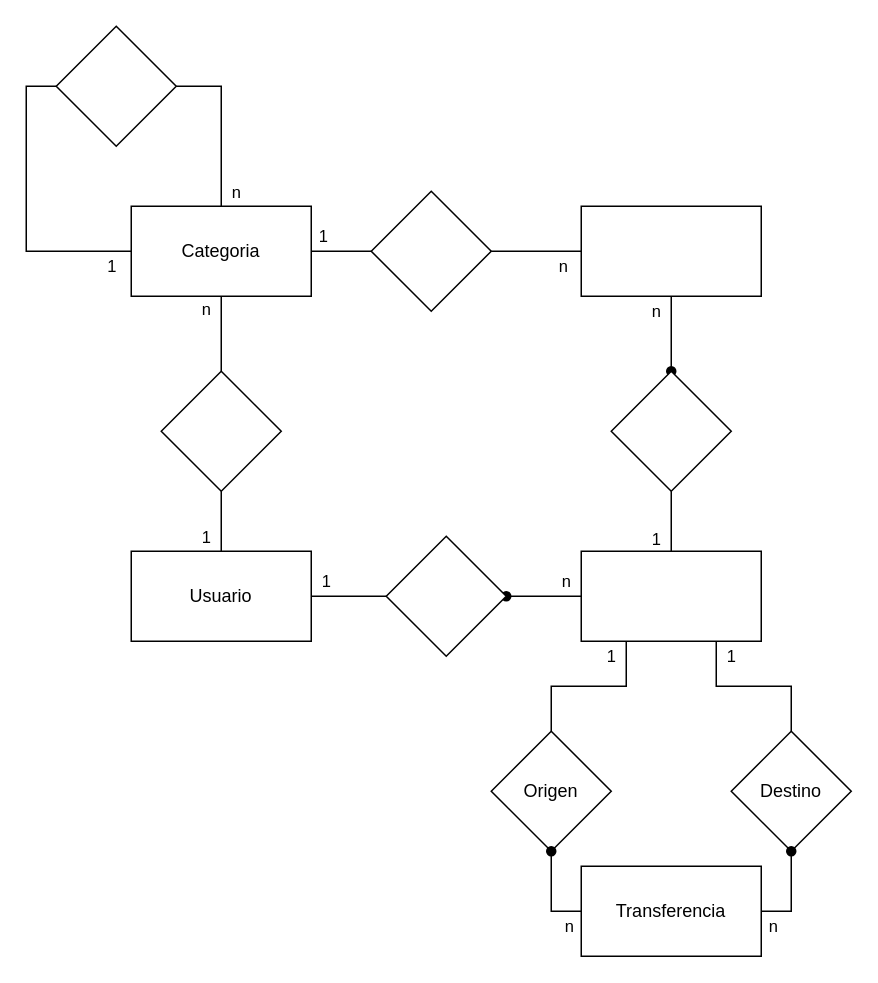
This 878x983 diagram has some shape labels left out. The shapes that lost their labels are listed below. From the top down, each one's centre as x and y in pixels, then its label:
point 115,85: Subcategoria
point 670,250: Transacción
point 670,595: Cuenta
